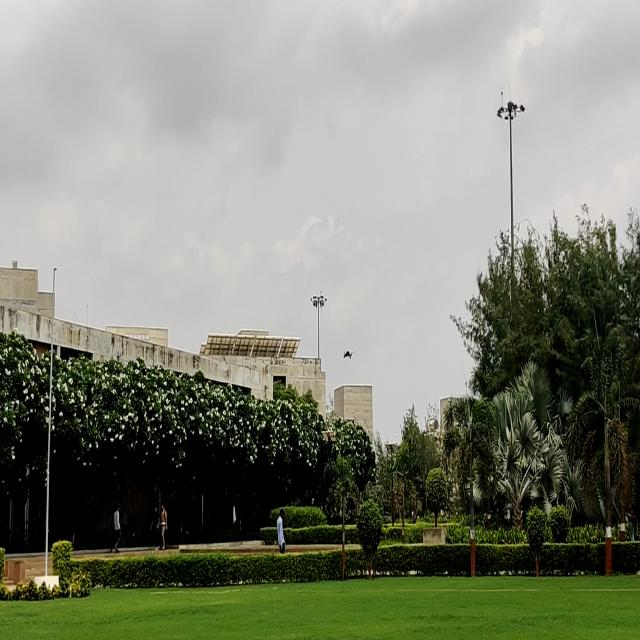drone: (338, 342, 356, 364)
